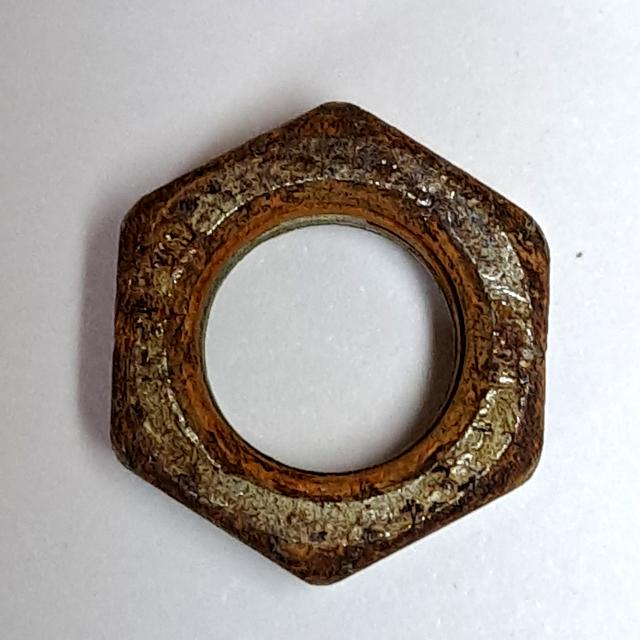Rust: (94, 90, 566, 600)
